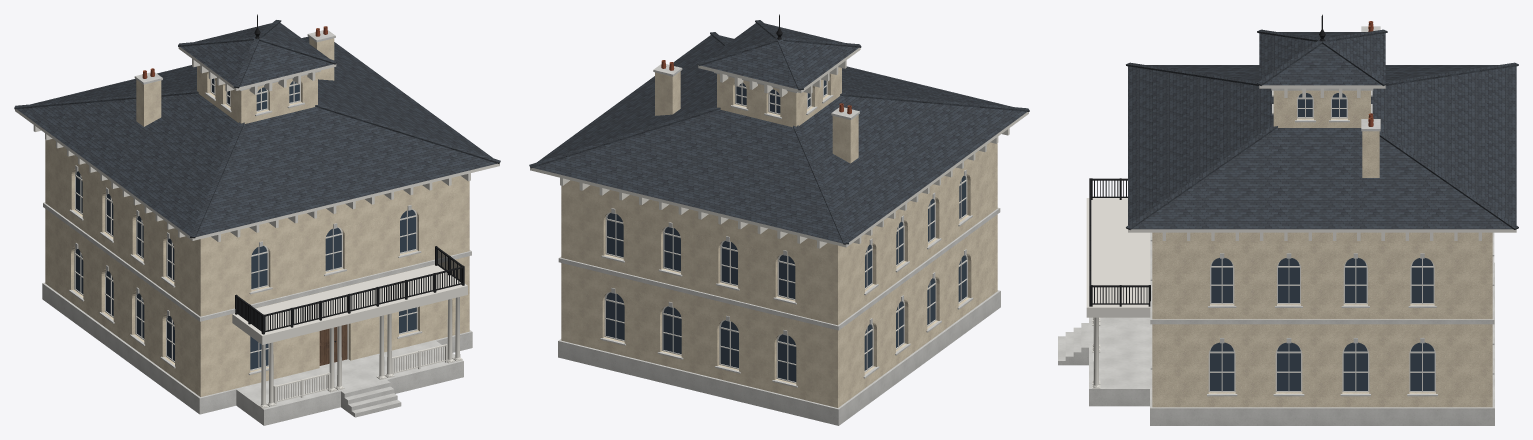
Rendered from italianate-mansion.glb.
3 renders of one model, left to right at view 1: azimuth 30°, elevation 25°; view 2: azimuth 150°, elevation 25°; view 3: azimuth 270°, elevation 25°, orthographic. The views are drawn at different scales.
Visible parts, largest first — view 1: Italianate_Mansion; view 2: Italianate_Mansion; view 3: Italianate_Mansion.
Part boxes in pixels (<box>): Italianate_Mansion: <box>14,14,500,425</box>; Italianate_Mansion: <box>529,14,1029,425</box>; Italianate_Mansion: <box>1058,14,1518,425</box>.
Size of the model in its own units: 16.18 by 15.4 by 18.97.
11 materials, 5 textured.
